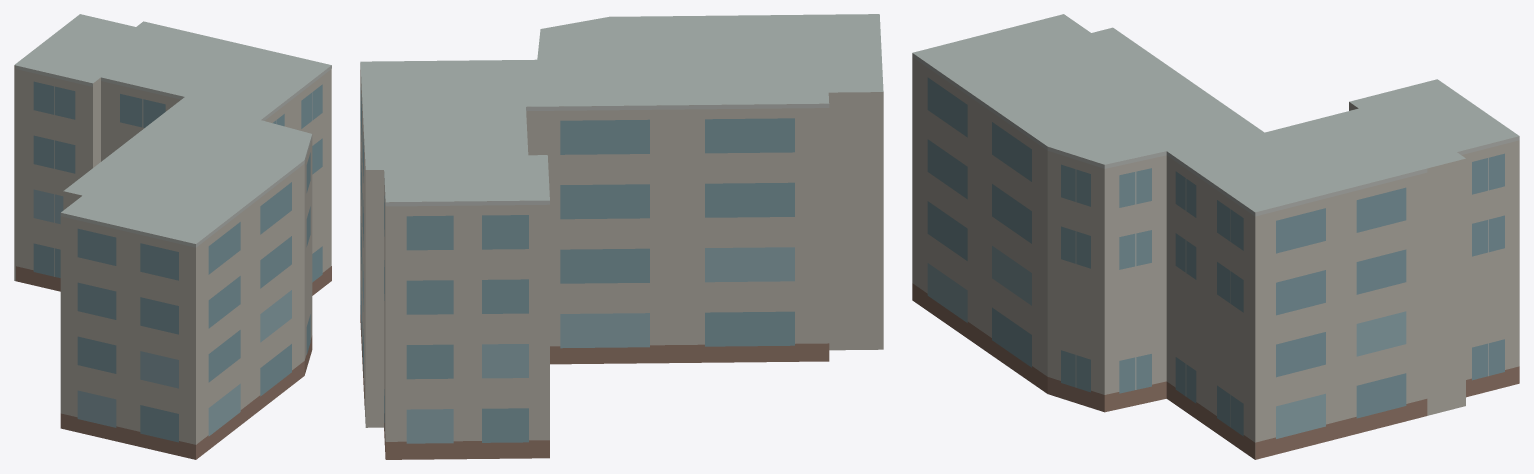
The model's file is survey-upis-33033028.glb.
3 renders of one model, left to right at view 1: azimuth 30°, elevation 25°; view 2: azimuth 150°, elevation 25°; view 3: azimuth 270°, elevation 25°, orthographic. The views are drawn at different scales.
Visible parts, largest first — view 1: survey-upis-33033028.tmp; view 2: survey-upis-33033028.tmp; view 3: survey-upis-33033028.tmp.
Boxes of the visible parts, box(x1,y1,x2,y2) form: survey-upis-33033028.tmp: box(14, 14, 331, 459); survey-upis-33033028.tmp: box(360, 14, 883, 459); survey-upis-33033028.tmp: box(912, 14, 1519, 459).
Bounding box in the file's own units: 25.12 × 14.6 × 32.49.
